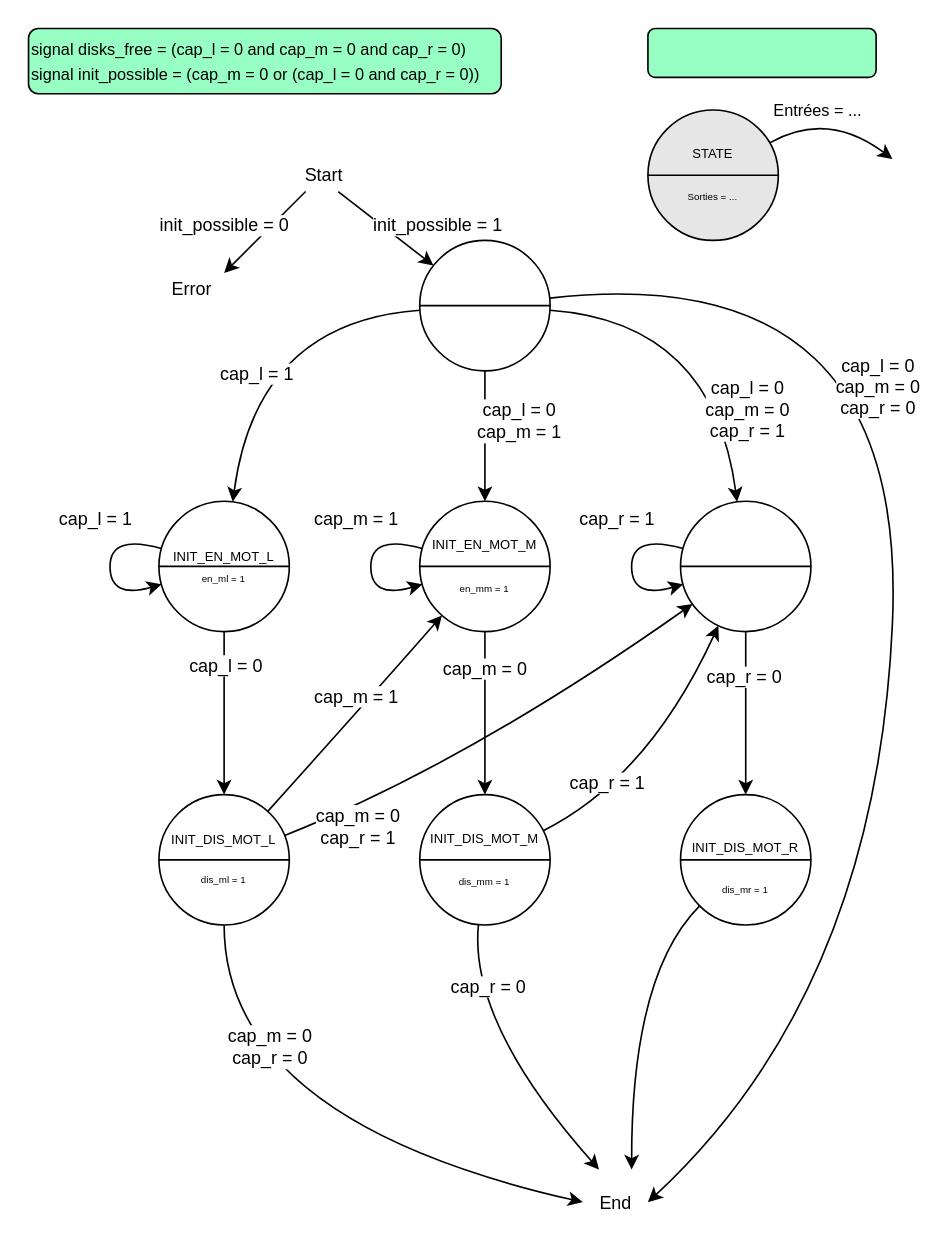
Some shapes in this 949 by 1242 pixel diagram are drawn without their labels. Each missing label, with the centre of its shape:
"Convention Si sorties non mises, égal à 0" goes at point 761,52.
"INIT_EN_MOT_R en_mr = 1" goes at point 745,566.
"INIT_SP_DIR dir_a = 1 init_vit = 1" goes at point 484,305.
